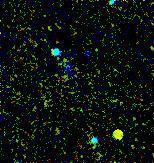star: (103, 121, 133, 151)
